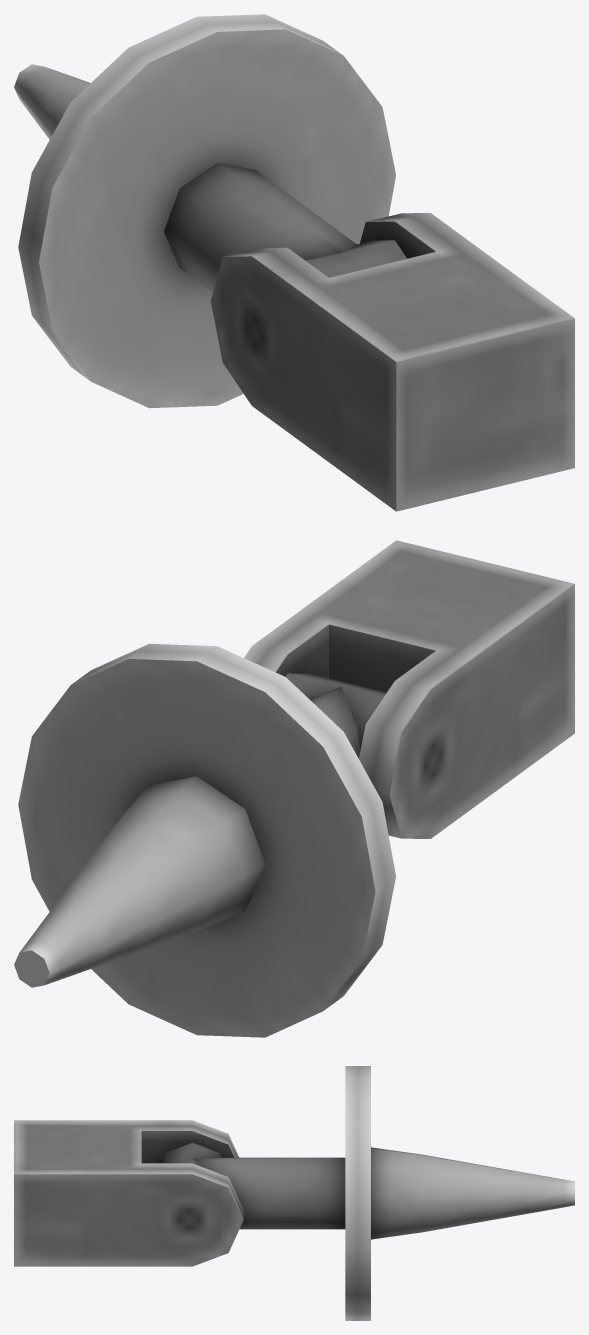
File: low gain.obj
The picture shows the model from 3 angles, top to bottom: view 1: azimuth 30°, elevation 25°; view 2: azimuth 150°, elevation 25°; view 3: azimuth 270°, elevation 25°; orthographic projection. The views are drawn at different scales.
Parts seen in each view (by area): view 1: 1; view 2: 1; view 3: 1.
Part boxes in pixels (bbox=[...]): 1: bbox=[14, 14, 574, 511]; 1: bbox=[14, 540, 574, 1037]; 1: bbox=[14, 1066, 574, 1320].
Size of the model in its own units: 0.125 by 0.125 by 0.275.
1 material, 1 textured.
